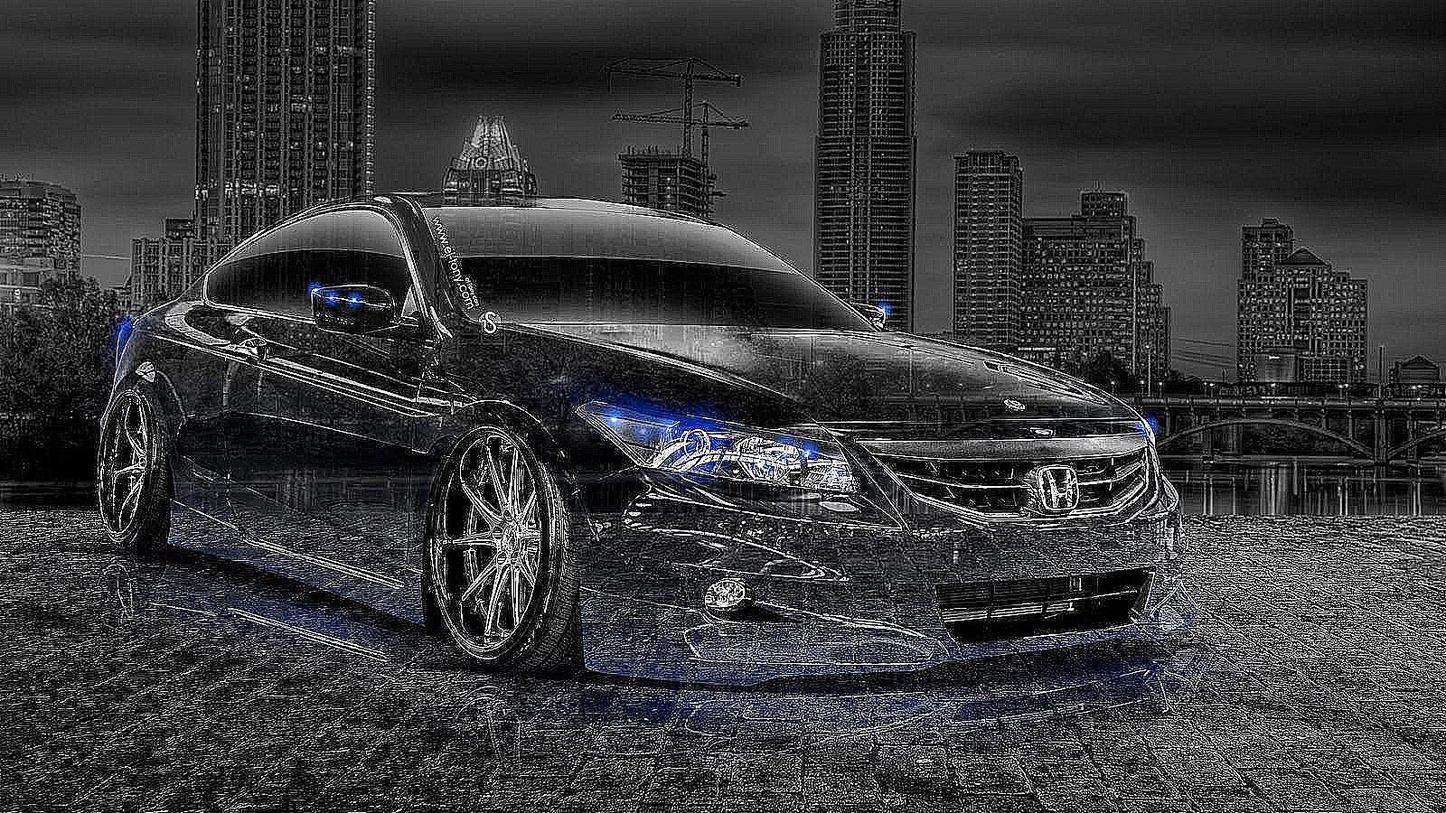Car hood: (468, 314, 1162, 427)
Driver-s door - -F-R-: (213, 189, 432, 618)
Fender - -F-R-: (415, 311, 570, 505)
Fender - -R-R-: (101, 298, 218, 429)
Front bumper: (568, 465, 1189, 687)
Headlight - -R-: (573, 399, 858, 500)
Side bumper - -R-: (160, 461, 435, 639)
Side mirror - -R-: (308, 284, 422, 333)
